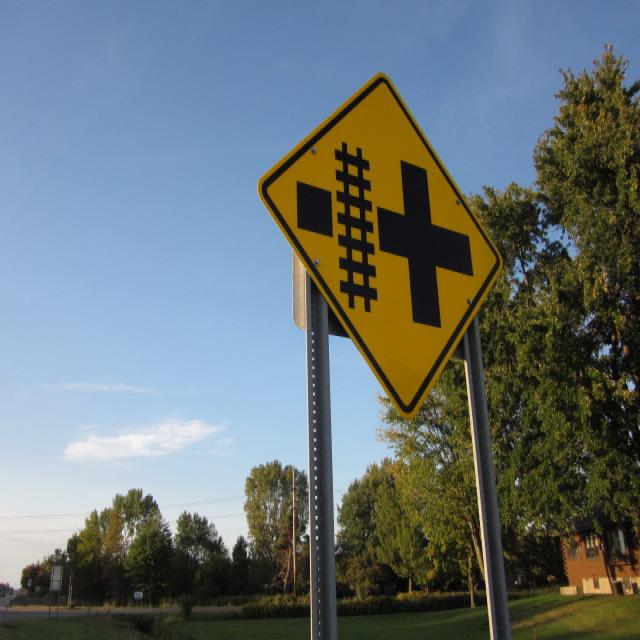warning: (258, 73, 506, 418)
